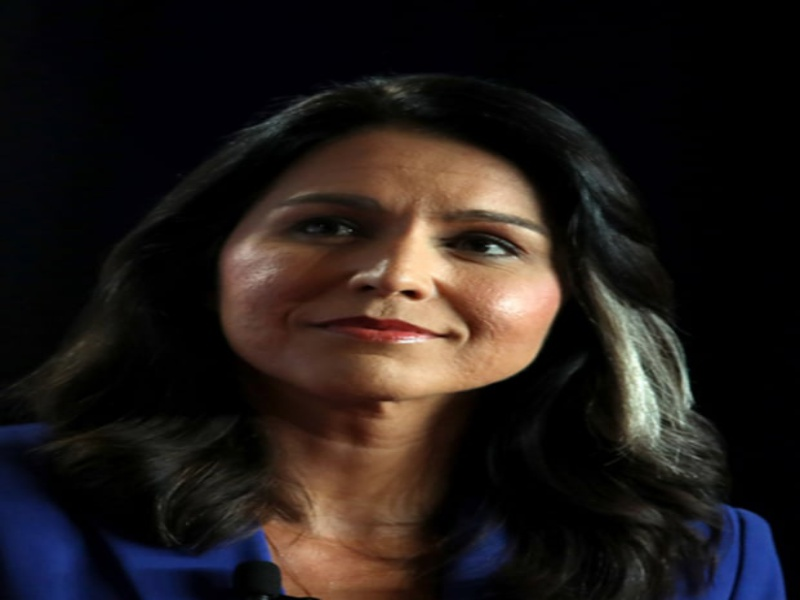TsisyArotava: (201, 120, 612, 421)
